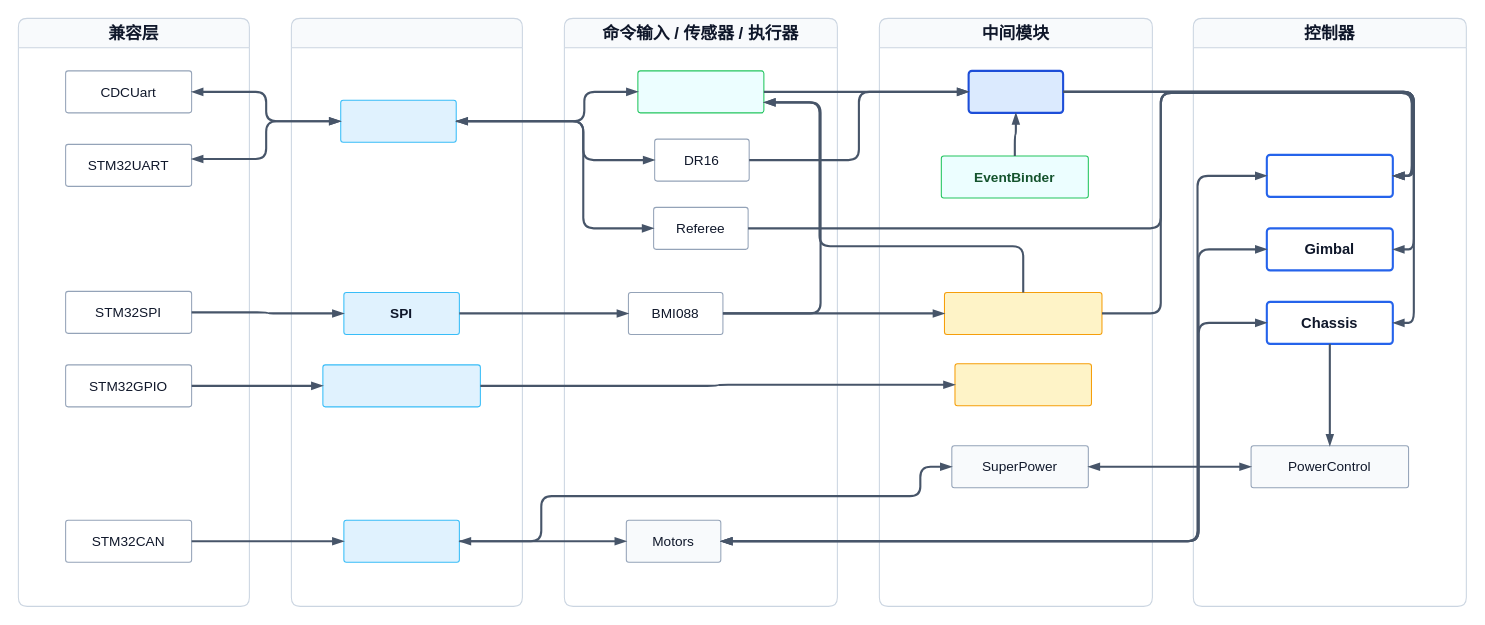
Some shapes in this 1485 by 625 pixel diagram are drawn without their labels. The shapes that lost their labels are listed below. From the top down, each one's box as (x1, y1, x2, y2) in pixels, then its label:
(637, 70, 764, 113): SharedTopic
(967, 69, 1064, 113): CMD
(340, 99, 456, 142): UART
(1265, 153, 1393, 197): Launcher
(290, 17, 522, 606): 外设 / 接口 / 总线
(943, 291, 1102, 334): MadgwickAHRS
(322, 364, 480, 407): GPIO Trigger
(954, 363, 1091, 406): CameraSync
(343, 519, 459, 562): CAN
